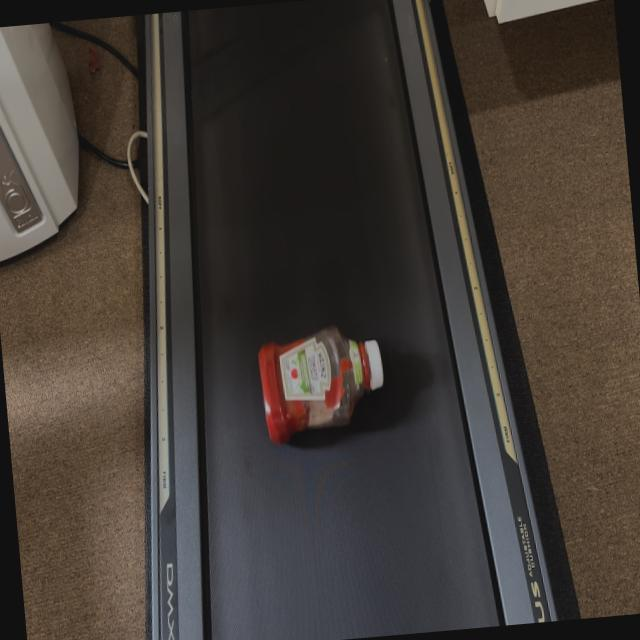Trash: (256, 324, 388, 447)
